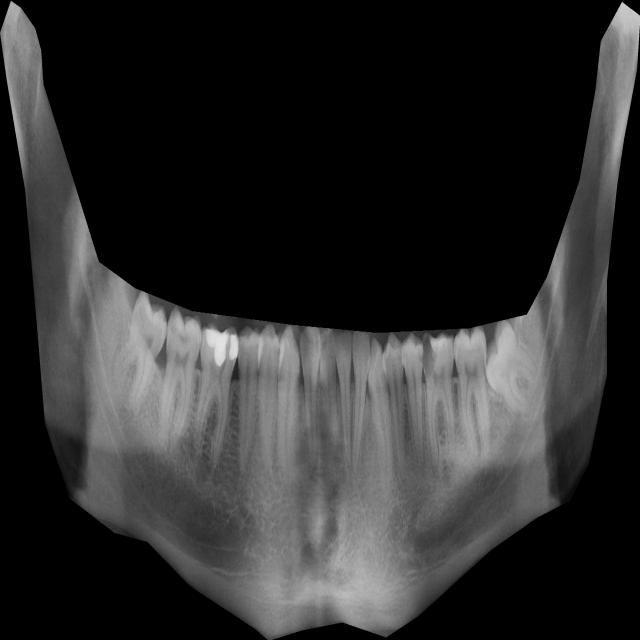mandibula: (0, 1, 640, 640)
